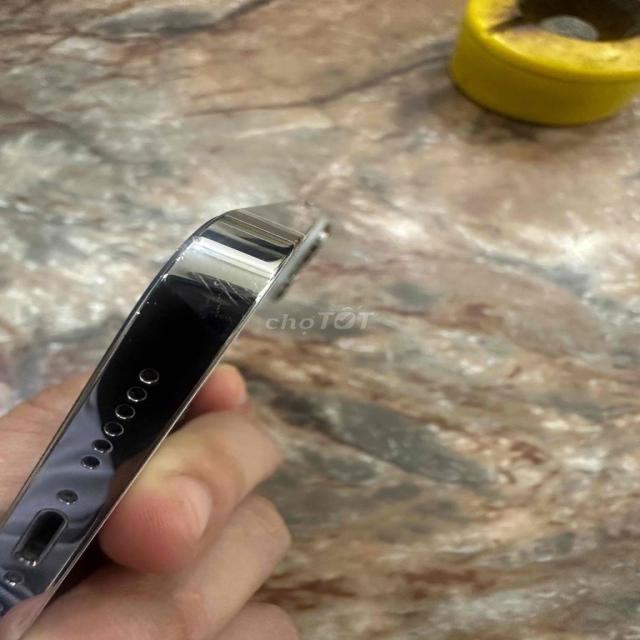scratch: (169, 246, 304, 317)
